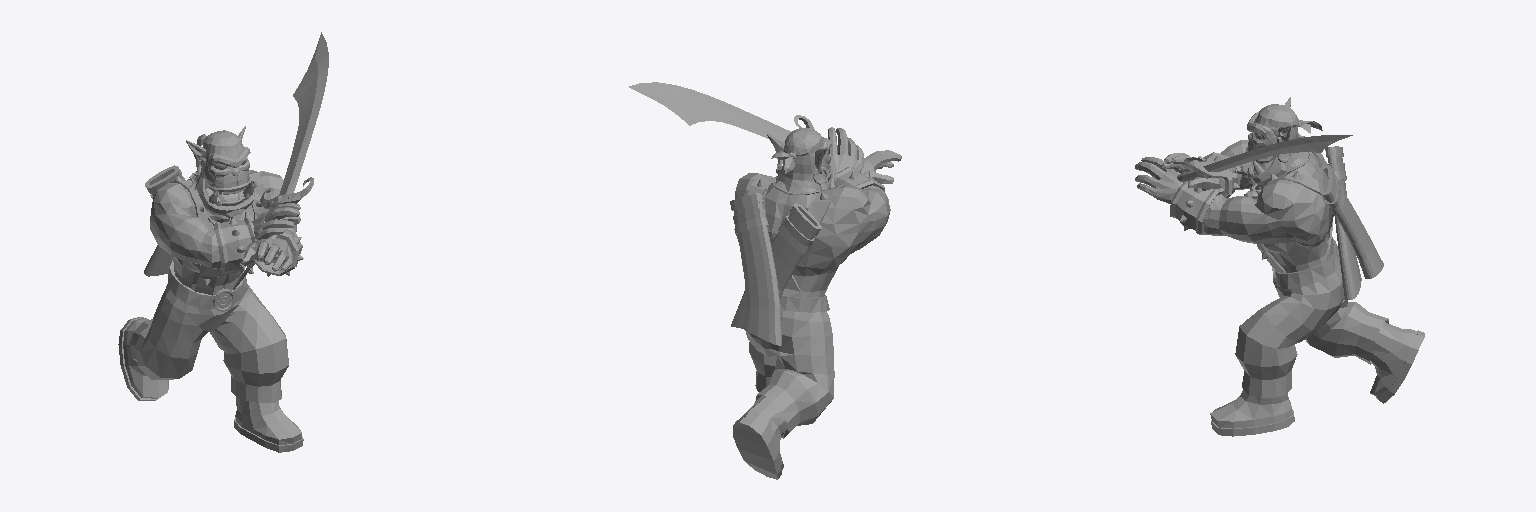
File: sinbad_000013.obj
3 views of the same model, side by side, from view 1: azimuth 30°, elevation 25°; view 2: azimuth 150°, elevation 25°; view 3: azimuth 270°, elevation 25° (orthographic).
Visible parts, largest first — view 1: Sinbad, Sword; view 2: Sinbad, Sword; view 3: Sinbad, Sword.
Part boxes in pixels (bbox=[...]): Sinbad: bbox=[118, 126, 303, 452]; Sword: bbox=[260, 32, 328, 238]; Sinbad: bbox=[730, 127, 901, 479]; Sword: bbox=[629, 82, 814, 139]; Sinbad: bbox=[1135, 97, 1424, 436]; Sword: bbox=[1177, 135, 1352, 182].
Bounding box in the file's own units: 6.05 × 9.62 × 7.4.